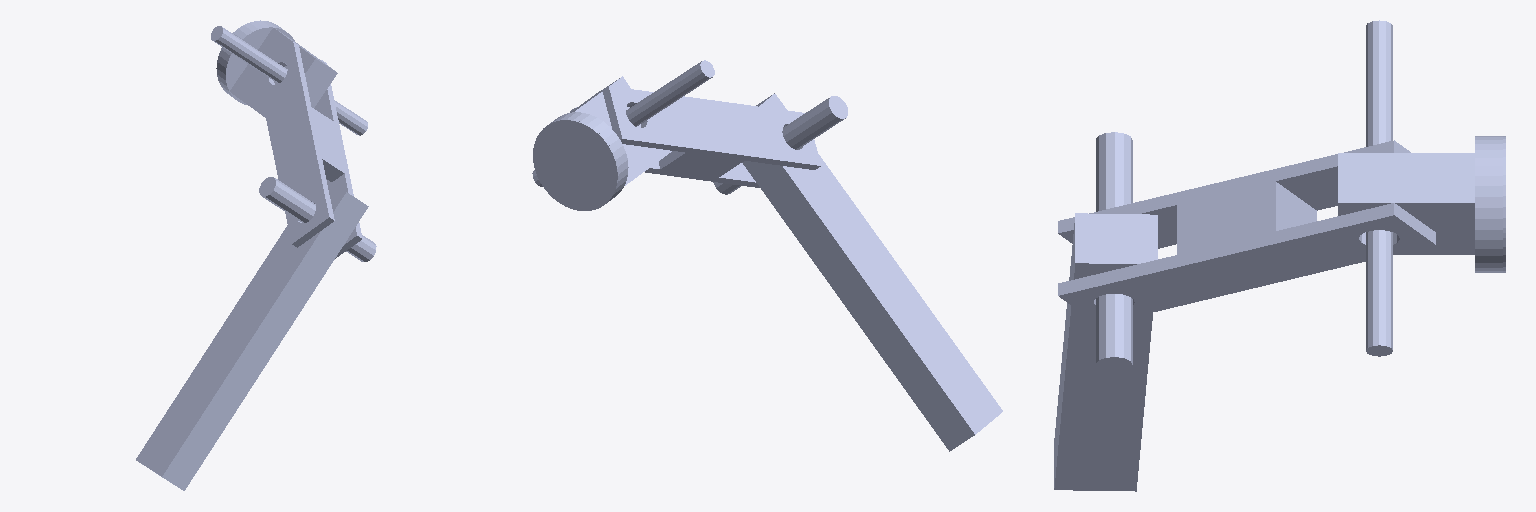
robot.urdf — noactuatorarm_v3:
<?xml version="1.0" encoding="utf-8"?>
<!-- This URDF was automatically created by SolidWorks to URDF Exporter! Originally created by [author] ([email redacted]) 
     Commit Version: 1.5.1-0-g916b5db  Build Version: 1.5.7152.31018
     For more information, please see http://wiki.ros.org/sw_urdf_exporter -->
<robot
  name="noactuatorarm_v3">
  <link
    name="base_link">
    <inertial>
      <origin
        xyz="0.14234003707559 0.0734566089019371 -0.191954465621883"
        rpy="0 0 0" />
      <mass
        value="0.0321759249226911" />
      <inertia
        ixx="3.24526421671496E-05"
        ixy="-3.57527502233267E-38"
        ixz="3.48455202047044E-37"
        iyy="6.48706866347606E-05"
        iyz="-1.98496716167664E-21"
        izz="3.24526421671496E-05" />
    </inertial>
    <visual>
      <origin
        xyz="0 0 0"
        rpy="0 0 0" />
      <geometry>
        <mesh
          filename="package://noactuatorarm_v3/meshes/base_link.STL" />
      </geometry>
      <material
        name="">
        <color
          rgba="0.792156862745098 0.819607843137255 0.933333333333333 1" />
      </material>
    </visual>
    <collision>
      <origin
        xyz="0 0 0"
        rpy="0 0 0" />
      <geometry>
        <mesh
          filename="package://noactuatorarm_v3/meshes/base_link.STL" />
      </geometry>
    </collision>
  </link>
  <link
    name="shoulder">
    <inertial>
      <origin
        xyz="-0.142916035800525 0.189152836326286 -0.000516591214858032"
        rpy="0 0 0" />
      <mass
        value="1.21428293086761" />
      <inertia
        ixx="0.00265515731800666"
        ixy="0.000415266502989419"
        ixz="-2.02722069172953E-05"
        iyy="0.00277012426763836"
        iyz="4.63930936478975E-05"
        izz="0.00320688952214508" />
    </inertial>
    <visual>
      <origin
        xyz="0 0 0"
        rpy="0 0 0" />
      <geometry>
        <mesh
          filename="package://noactuatorarm_v3/meshes/shoulder.STL" />
      </geometry>
      <material
        name="">
        <color
          rgba="0.792156862745098 0.819607843137255 0.933333333333333 1" />
      </material>
    </visual>
    <collision>
      <origin
        xyz="0 0 0"
        rpy="0 0 0" />
      <geometry>
        <mesh
          filename="package://noactuatorarm_v3/meshes/shoulder.STL" />
      </geometry>
    </collision>
  </link>
  <joint
    name="base_to_shoulder"
    type="continuous">
    <origin
      xyz="0 0 0"
      rpy="-1.5707963267949 -0.00708905725365007 3.14159265358979" />
    <parent
      link="base_link" />
    <child
      link="shoulder" />
    <axis
      xyz="0 0 1" />
  </joint>
  <link
    name="humerus">
    <inertial>
      <origin
        xyz="0.265112824464407 0.121607181750131 -0.160486425218341"
        rpy="0 0 0" />
      <mass
        value="1.04917371450236" />
      <inertia
        ixx="0.00647796764555855"
        ixy="0.00105432060879276"
        ixz="-0.00189054376723956"
        iyy="0.00589700313204364"
        iyz="0.00234427746972309"
        izz="0.00364327167084926" />
    </inertial>
    <visual>
      <origin
        xyz="0 0 0"
        rpy="0 0 0" />
      <geometry>
        <mesh
          filename="package://noactuatorarm_v3/meshes/humerus.STL" />
      </geometry>
      <material
        name="">
        <color
          rgba="0.792156862745098 0.819607843137255 0.933333333333333 1" />
      </material>
    </visual>
    <collision>
      <origin
        xyz="0 0 0"
        rpy="0 0 0" />
      <geometry>
        <mesh
          filename="package://noactuatorarm_v3/meshes/humerus.STL" />
      </geometry>
    </collision>
  </link>
  <joint
    name="shoulder_to_humerus"
    type="continuous">
    <origin
      xyz="-0.014446186337702 -0.0253999999999998 0.345909915448798"
      rpy="-0.195580902426249 0 1.5707963267949" />
    <parent
      link="shoulder" />
    <child
      link="humerus" />
    <axis
      xyz="0.644862598348269 0.749727127370618 0.148531019440791" />
  </joint>
  <link
    name="forearm">
    <inertial>
      <origin
        xyz="0.457107797686909 -0.0641150547341639 -0.0650489338669779"
        rpy="0 0 0" />
      <mass
        value="2.13019814818598" />
      <inertia
        ixx="0.0213341582045734"
        ixy="0.0227671353737951"
        ixz="0.00308500172466639"
        iyy="0.03043455136259"
        iyz="-0.00260485471047198"
        izz="0.0491276591704675" />
    </inertial>
    <visual>
      <origin
        xyz="0 0 0"
        rpy="0 0 0" />
      <geometry>
        <mesh
          filename="package://noactuatorarm_v3/meshes/forearm.STL" />
      </geometry>
      <material
        name="">
        <color
          rgba="0.792156862745098 0.819607843137255 0.933333333333333 1" />
      </material>
    </visual>
    <collision>
      <origin
        xyz="0 0 0"
        rpy="0 0 0" />
      <geometry>
        <mesh
          filename="package://noactuatorarm_v3/meshes/forearm.STL" />
      </geometry>
    </collision>
  </link>
  <joint
    name="humerus_to_forearm"
    type="continuous">
    <origin
      xyz="0 0 0"
      rpy="0 0 0" />
    <parent
      link="humerus" />
    <child
      link="forearm" />
    <axis
      xyz="0.644862598348269 0.749727127370618 0.148531019440791" />
  </joint>
</robot>

--- Facts derived from the render (not from the file) ---
Views: 3 orthographic renders of the robot side by side, from view 1: azimuth 30°, elevation 25°; view 2: azimuth 150°, elevation 25°; view 3: azimuth 270°, elevation 25°.
Model noactuatorarm_v3 with 4 links and 3 joints (3 continuous), rooted at base_link, posed all joints at 0.
Links seen in each view (by area): view 1: forearm, humerus, shoulder; view 2: forearm, humerus, base_link, shoulder; view 3: humerus, forearm, shoulder.
Link boxes in pixels (x1=…): forearm: x1=136, y1=177, x2=376, y2=490; humerus: x1=256, y1=42, x2=362, y2=258; shoulder: x1=211, y1=21, x2=367, y2=135; forearm: x1=713, y1=93, x2=1002, y2=451; humerus: x1=570, y1=86, x2=820, y2=187; base_link: x1=533, y1=119, x2=618, y2=210; shoulder: x1=532, y1=60, x2=714, y2=203; humerus: x1=1058, y1=140, x2=1435, y2=322; forearm: x1=1054, y1=132, x2=1157, y2=491; shoulder: x1=1338, y1=20, x2=1502, y2=356.
Size in the robot's own frame: 0.5295 by 0.4177 by 0.5929 metres.
4 mesh visuals loaded from 4 distinct referenced files (4 binary STL).